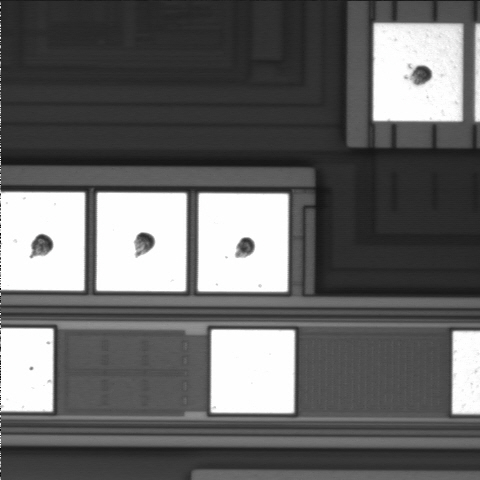pad: (96, 193, 187, 291), (198, 193, 288, 292), (373, 23, 462, 121), (211, 330, 295, 413)
